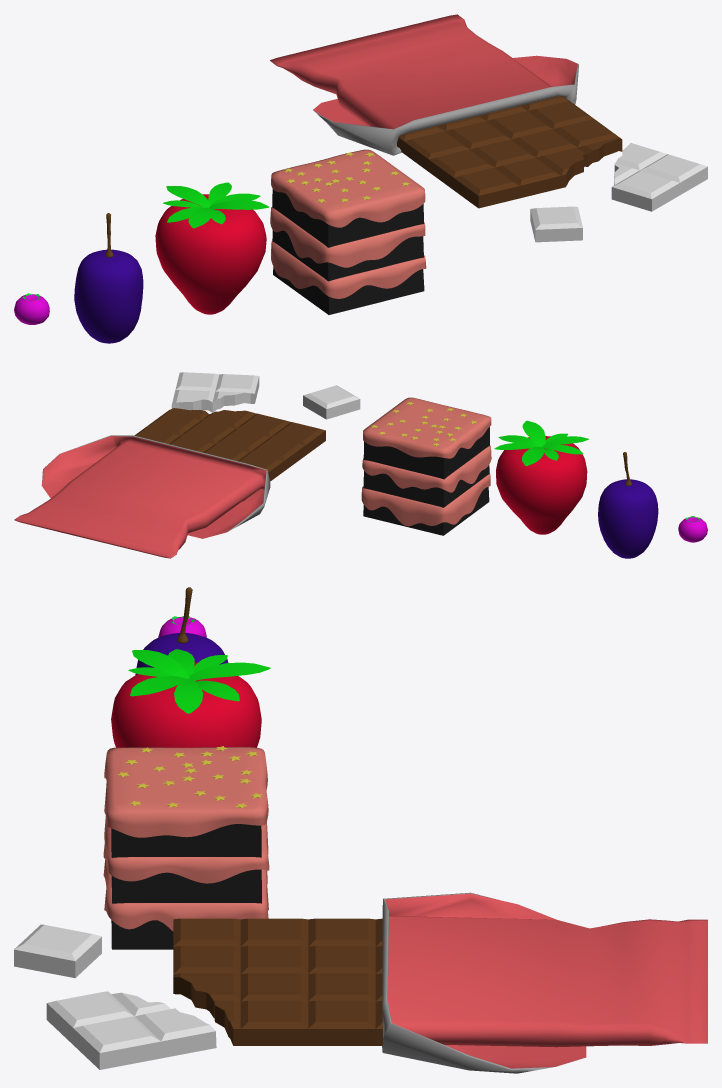
Rendered from all_foods.fbx.
The picture shows the model from 3 angles, top to bottom: view 1: azimuth 30°, elevation 25°; view 2: azimuth 150°, elevation 25°; view 3: azimuth 270°, elevation 25°; orthographic projection. The views are drawn at different scales.
Visible parts, largest first — view 1: Cube, Cube.003, Sphere.002, Sphere, Cube.004, Cube.002, Sphere.003; view 2: Cube, Cube.003, Sphere.002, Sphere, Cube.004, Cube.002, Sphere.003; view 3: Cube, Cube.003, Sphere.002, Cube.004, Cube.002, Sphere.
Part boxes in pixels (x1,y1,x2,y2): Cube: (270, 14, 622, 208); Cube.003: (270, 149, 426, 314); Sphere.002: (155, 182, 268, 314); Sphere: (74, 213, 143, 343); Cube.004: (611, 142, 707, 211); Cube.002: (530, 206, 582, 242); Sphere.003: (14, 293, 49, 324); Cube: (14, 408, 325, 558); Cube.003: (361, 397, 491, 535); Sphere.002: (494, 420, 588, 534); Sphere: (598, 452, 658, 558); Cube.004: (171, 372, 259, 412); Cube.002: (303, 385, 360, 419); Sphere.003: (678, 516, 707, 542); Cube: (173, 892, 707, 1073); Cube.003: (103, 746, 269, 949); Sphere.002: (111, 649, 270, 747); Cube.004: (46, 991, 216, 1069); Cube.002: (14, 924, 101, 978); Sphere: (135, 587, 228, 674).
Bounding box in the file's own units: 1372 × 248 × 904.
